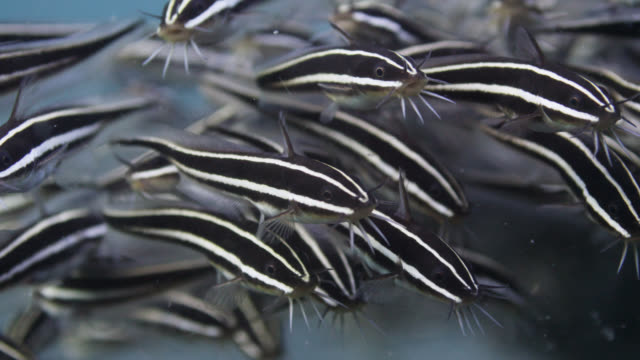gonzui: (121, 131, 391, 238)
